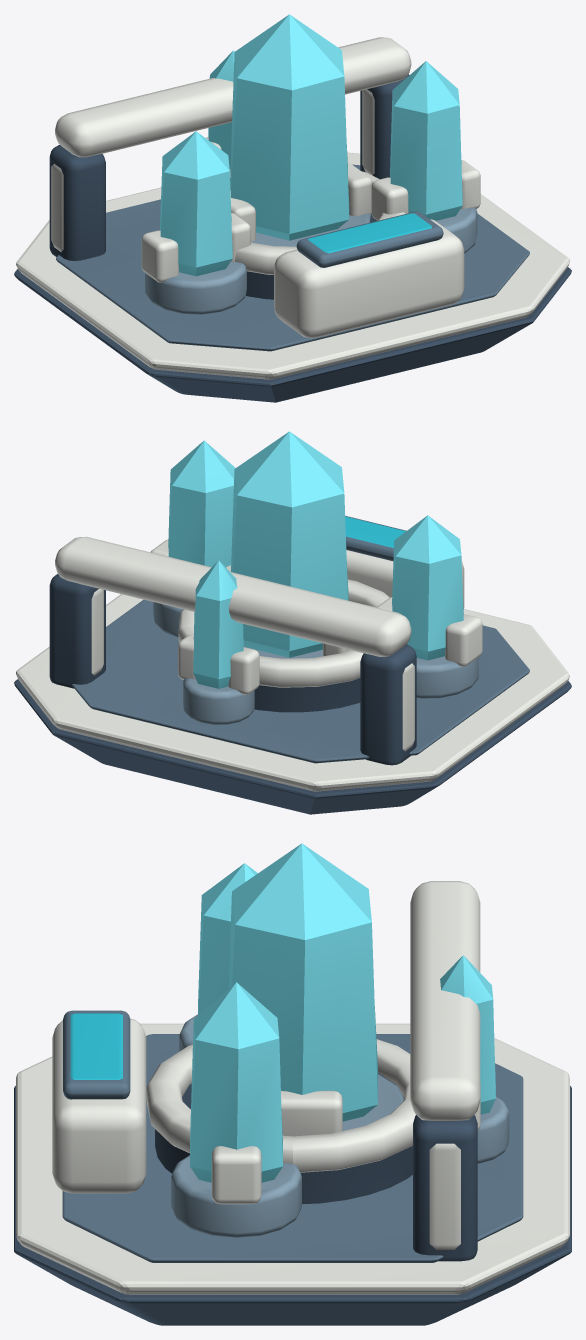
Rendered from crystal_refinery_lv4.glb.
The picture shows the model from 3 angles, top to bottom: view 1: azimuth 30°, elevation 25°; view 2: azimuth 150°, elevation 25°; view 3: azimuth 270°, elevation 25°; orthographic projection. The views are drawn at different scales.
Visible parts, largest first — view 1: Structure; view 2: Structure; view 3: Structure.
Boxes of the visible parts, x1,y1,x2,y2 form: Structure: (14, 14, 571, 402); Structure: (14, 431, 571, 814); Structure: (14, 843, 571, 1325).
Bounding box in the file's own units: 6.95 × 4.71 × 6.23.
